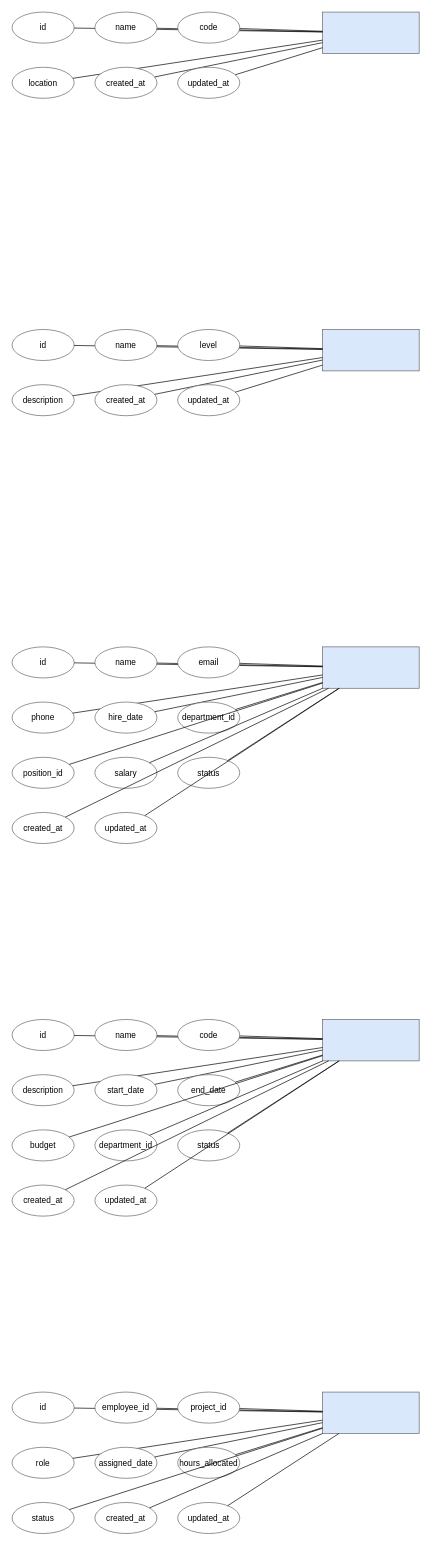
Image size: 435x1546. Some labels were removed from this diagram. The shapes that lost their labels are listed below. From the top down, each one's box as (x1, y1, x2, y2) in pixels, then its label:
(322, 11, 419, 53): DEPARTMENTS
(322, 329, 419, 371): POSITIONS
(322, 646, 419, 688): EMPLOYEES
(322, 1019, 419, 1061): PROJECTS
(322, 1391, 419, 1433): PROJECT_ASSIGNMENTS
